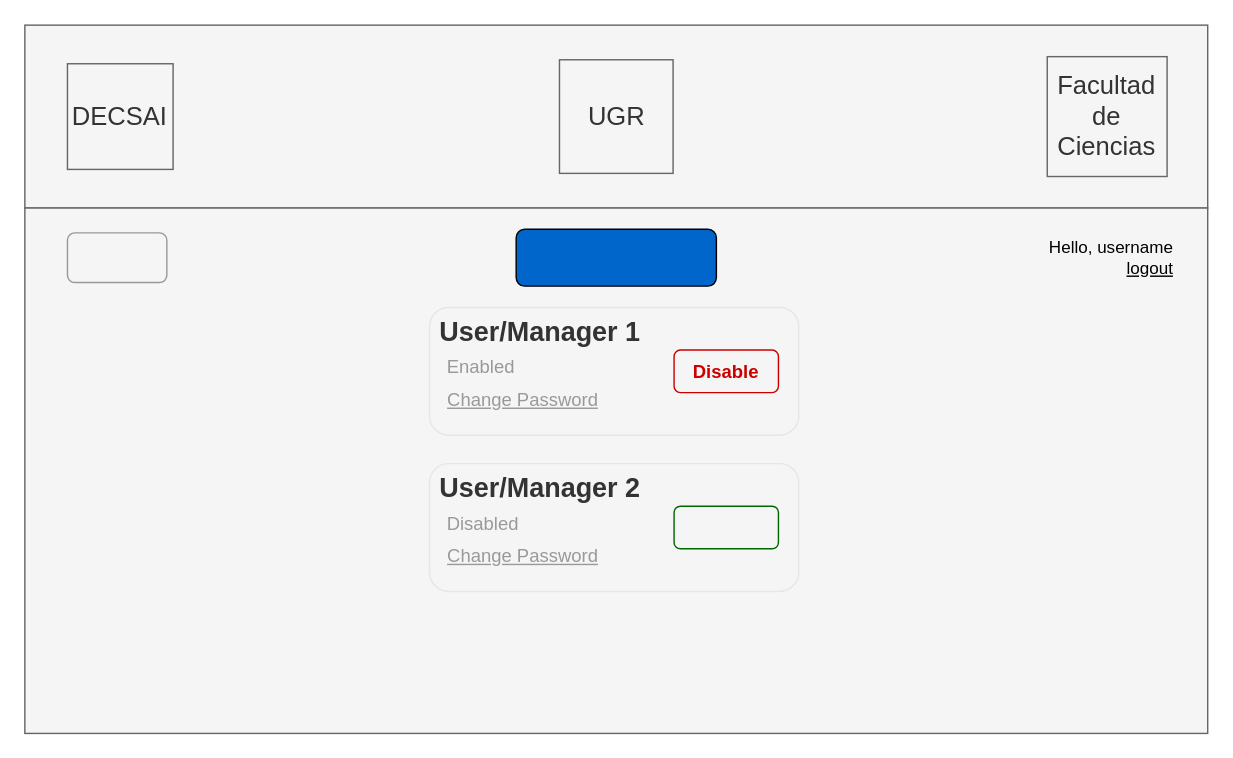
Some shapes in this 1233 by 758 pixel diagram are drawn without their labels. Each missing label, with the centre of its shape:
"Add User/Manager" belongs at point 615,257.
"Enable" belongs at point 725,527.
"Go Back" belongs at point 116,257.
